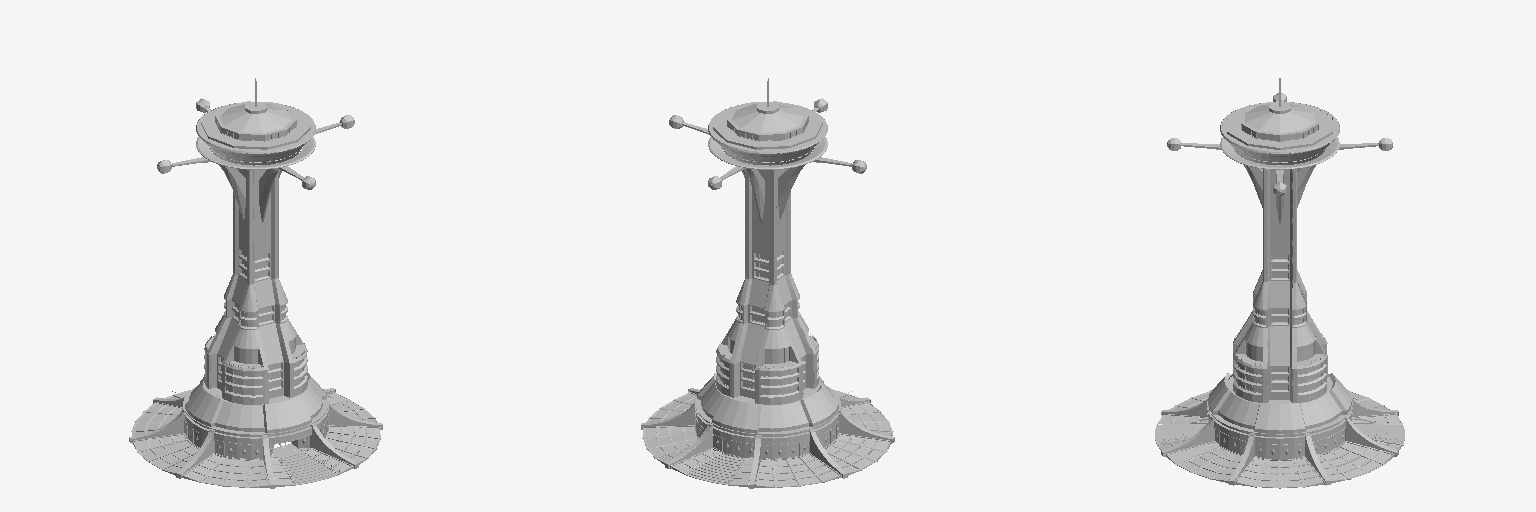
Rendered from lucky_38.obj.
3 renders of one model, left to right at view 1: azimuth 30°, elevation 25°; view 2: azimuth 150°, elevation 25°; view 3: azimuth 270°, elevation 25°, orthographic.
Visible parts, largest first — view 1: lucky38.005; view 2: lucky38.005; view 3: lucky38.005.
Boxes of the visible parts, x1,y1,x2,y2 form: lucky38.005: [129, 78, 382, 488]; lucky38.005: [641, 78, 894, 488]; lucky38.005: [1155, 78, 1404, 488].
Size of the model in its own units: 126 by 198 by 125.